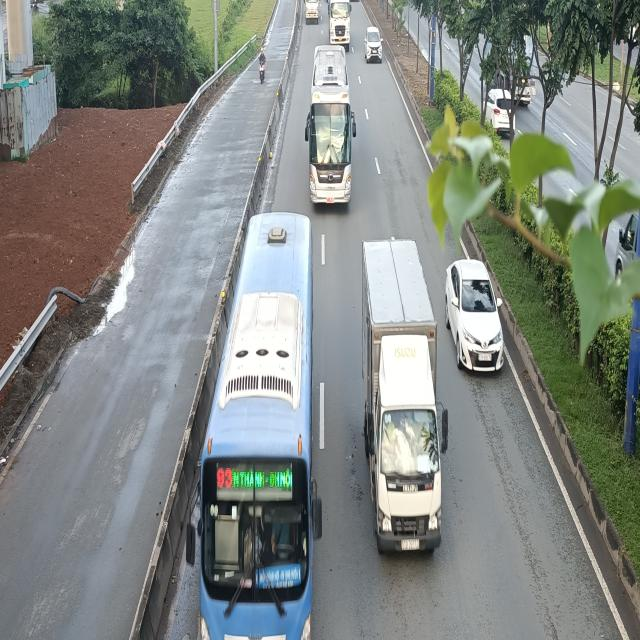car: (447, 257, 506, 374), (366, 25, 384, 62)
coach: (185, 207, 324, 640), (305, 46, 355, 211)
truck: (364, 243, 451, 558), (327, 0, 351, 45)
